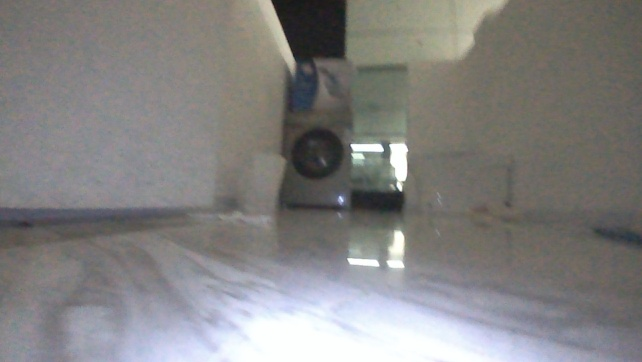bottle: (225, 147, 290, 215)
shoe: (462, 196, 530, 222)
toilet: (405, 138, 523, 220)
washing_machine: (277, 105, 358, 212)
